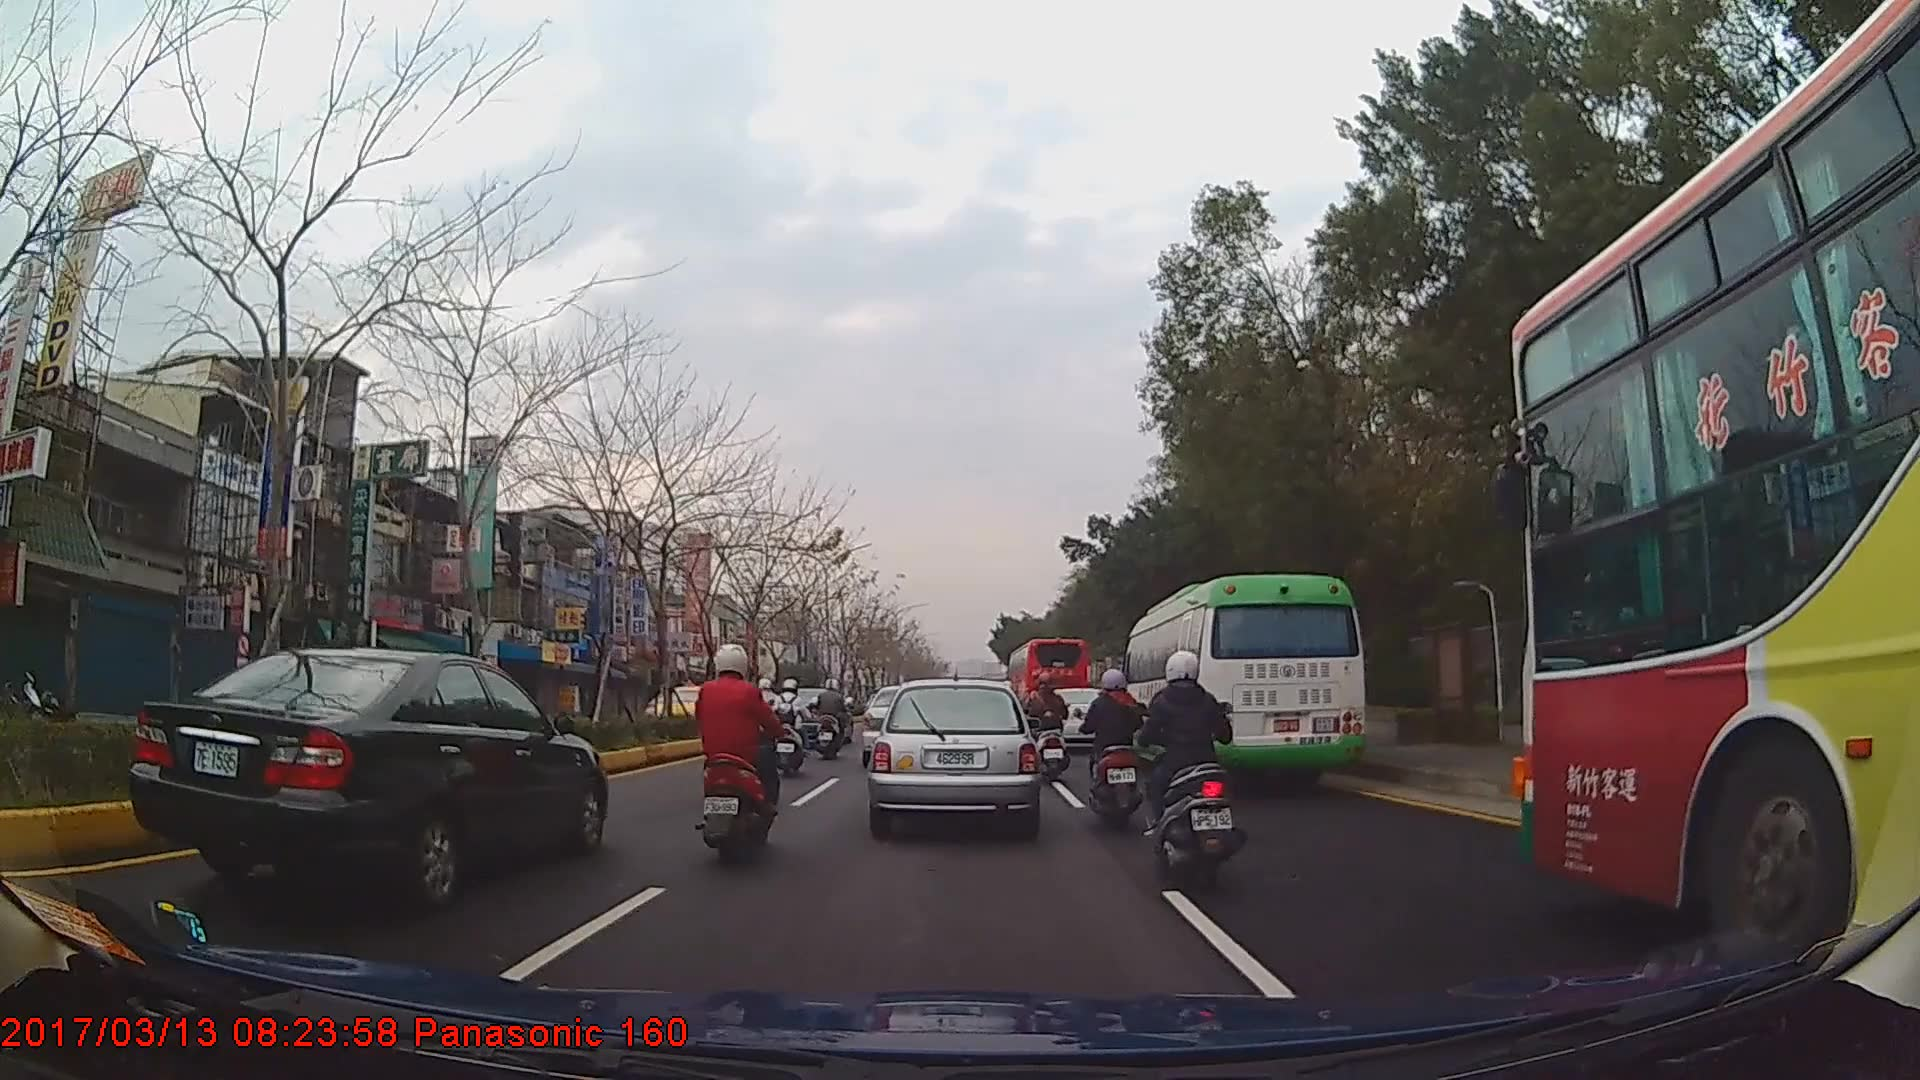rider: (1141, 648, 1250, 897), (686, 640, 778, 867), (1077, 664, 1149, 830), (1028, 669, 1072, 786), (771, 676, 814, 778), (817, 677, 856, 758), (750, 675, 792, 746)
vehicle: (1510, 0, 1920, 980), (122, 642, 608, 904), (1120, 573, 1366, 787), (866, 676, 1037, 834), (1006, 634, 1089, 729)
